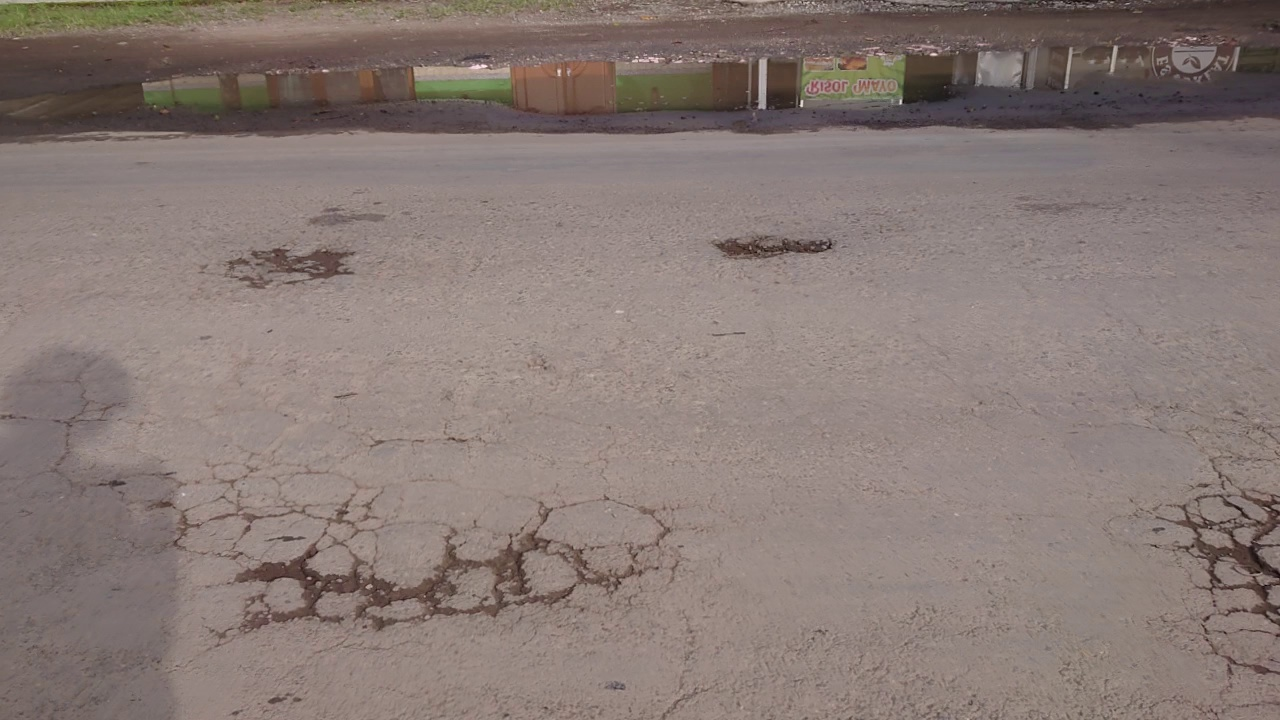Retak: (198, 483, 685, 606), (1189, 477, 1280, 683), (238, 252, 344, 289), (697, 237, 824, 254)
